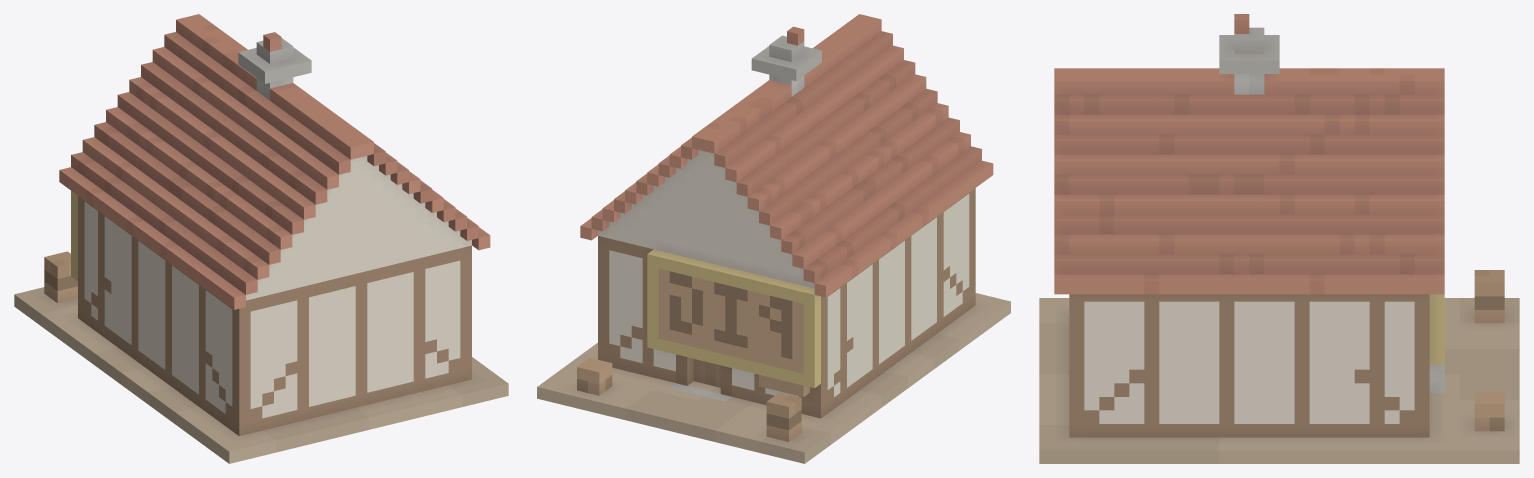
Rendered from pig_farm.glb.
3 views of the same model, side by side, from view 1: azimuth 30°, elevation 25°; view 2: azimuth 150°, elevation 25°; view 3: azimuth 270°, elevation 25° (orthographic). The views are drawn at different scales.
Visible parts, largest first — view 1: pig_farm; view 2: pig_farm; view 3: pig_farm.
Part boxes in pixels (bbox=[...]): pig_farm: bbox=[14, 14, 508, 463]; pig_farm: bbox=[537, 14, 1010, 463]; pig_farm: bbox=[1039, 14, 1519, 463].
Bounding box in the file's own units: 3 × 3.38 × 4.
